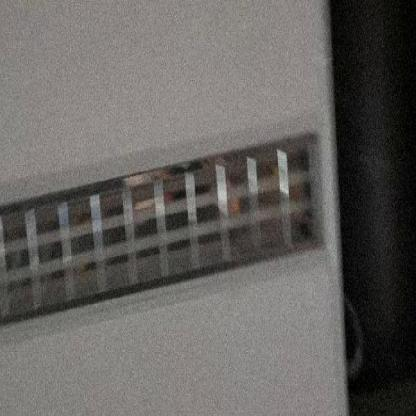light_off: (0, 107, 336, 356)
